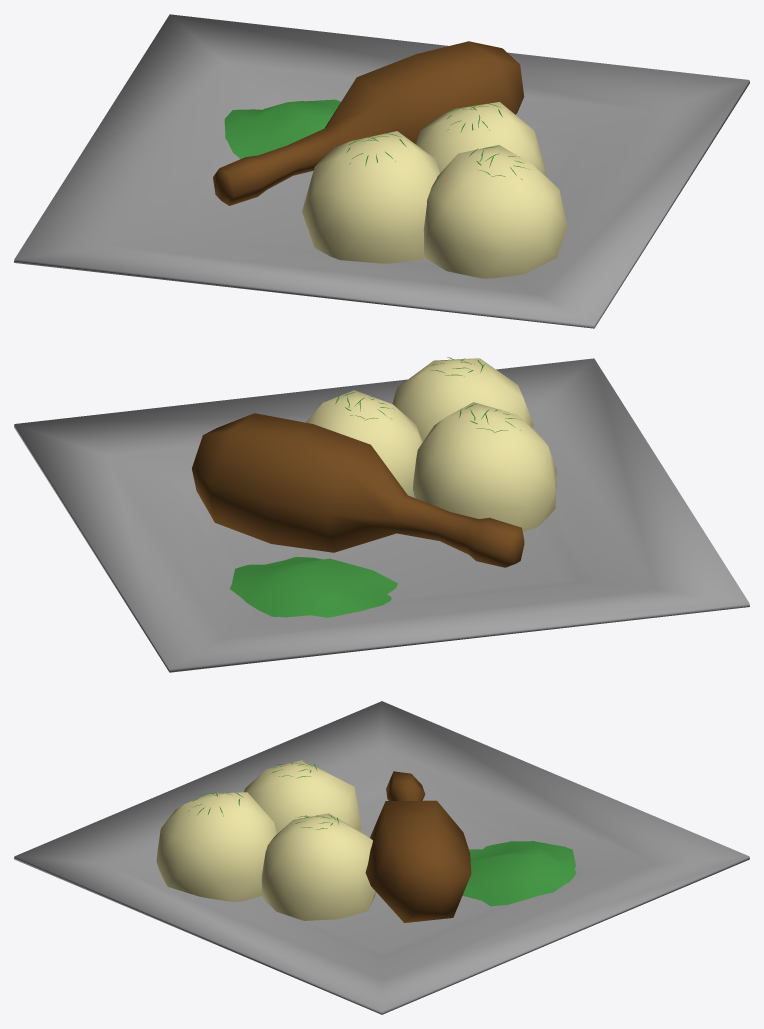
Rendered from chicken dish.fbx.
3 views of the same model, one above another, from view 1: azimuth 30°, elevation 25°; view 2: azimuth 150°, elevation 25°; view 3: azimuth 270°, elevation 25° (orthographic). The views are drawn at different scales.
Visible parts, largest first — view 1: plate, potatoes, chicken, salad thing; view 2: plate, chicken, potatoes, salad thing; view 3: plate, potatoes, chicken, salad thing.
Part boxes in pixels (x1=…): plate: x1=14, y1=14, x2=749, y2=328; potatoes: x1=302, y1=102, x2=567, y2=278; chicken: x1=213, y1=41, x2=524, y2=205; salad thing: x1=224, y1=99, x2=340, y2=158; plate: x1=14, y1=358, x2=749, y2=672; chicken: x1=192, y1=413, x2=524, y2=567; potatoes: x1=305, y1=357, x2=556, y2=531; salad thing: x1=230, y1=557, x2=397, y2=617; plate: x1=14, y1=701, x2=749, y2=1014; potatoes: x1=156, y1=760, x2=375, y2=920; chicken: x1=365, y1=771, x2=471, y2=922; salad thing: x1=462, y1=841, x2=576, y2=906.
Size of the model in its own units: 11.35 by 1.57 by 11.35.
